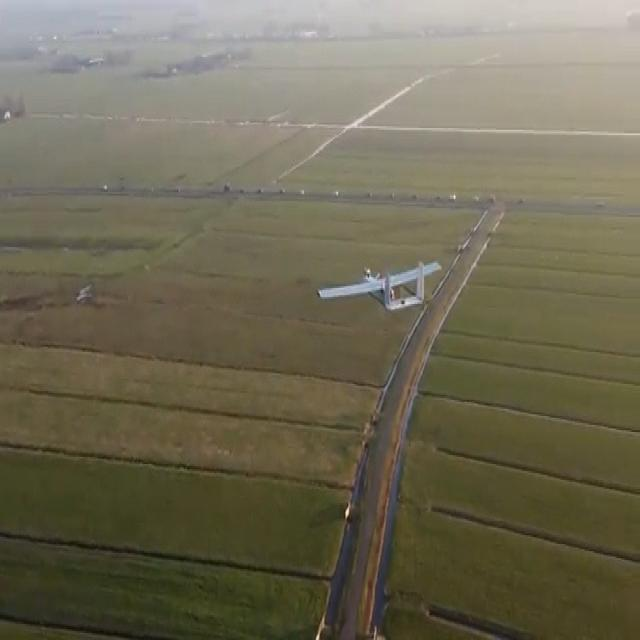drones: (310, 240, 442, 329)
